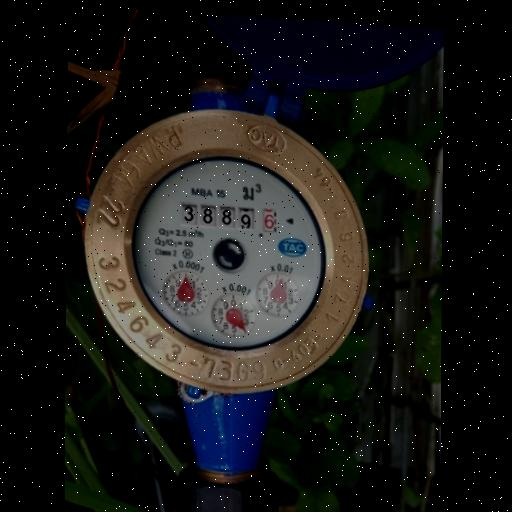3: (182, 204, 197, 225)
6: (263, 208, 276, 232)
8: (201, 205, 216, 227), (221, 206, 234, 228)
9: (240, 208, 255, 230)
border_water_meter_number: (179, 201, 278, 234)
